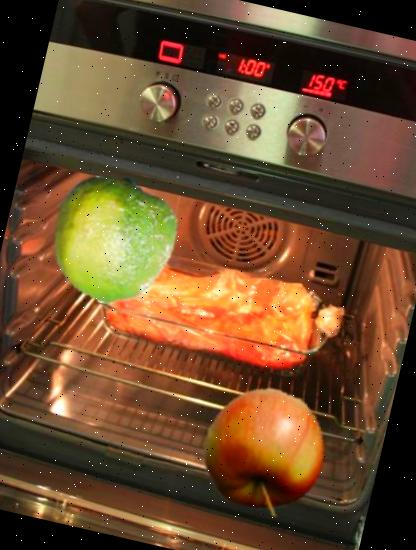Apple: (186, 373, 341, 528)
Limes: (37, 164, 189, 316)
